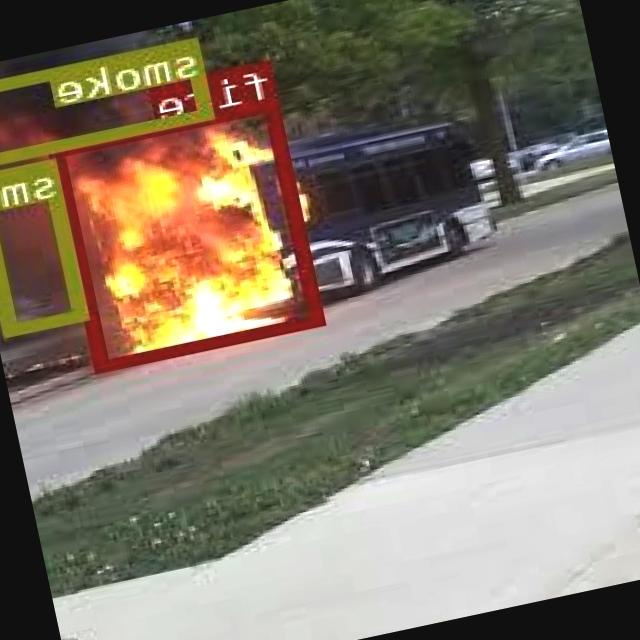fire: (52, 97, 328, 370)
smoke: (0, 34, 217, 164), (0, 156, 91, 334)
